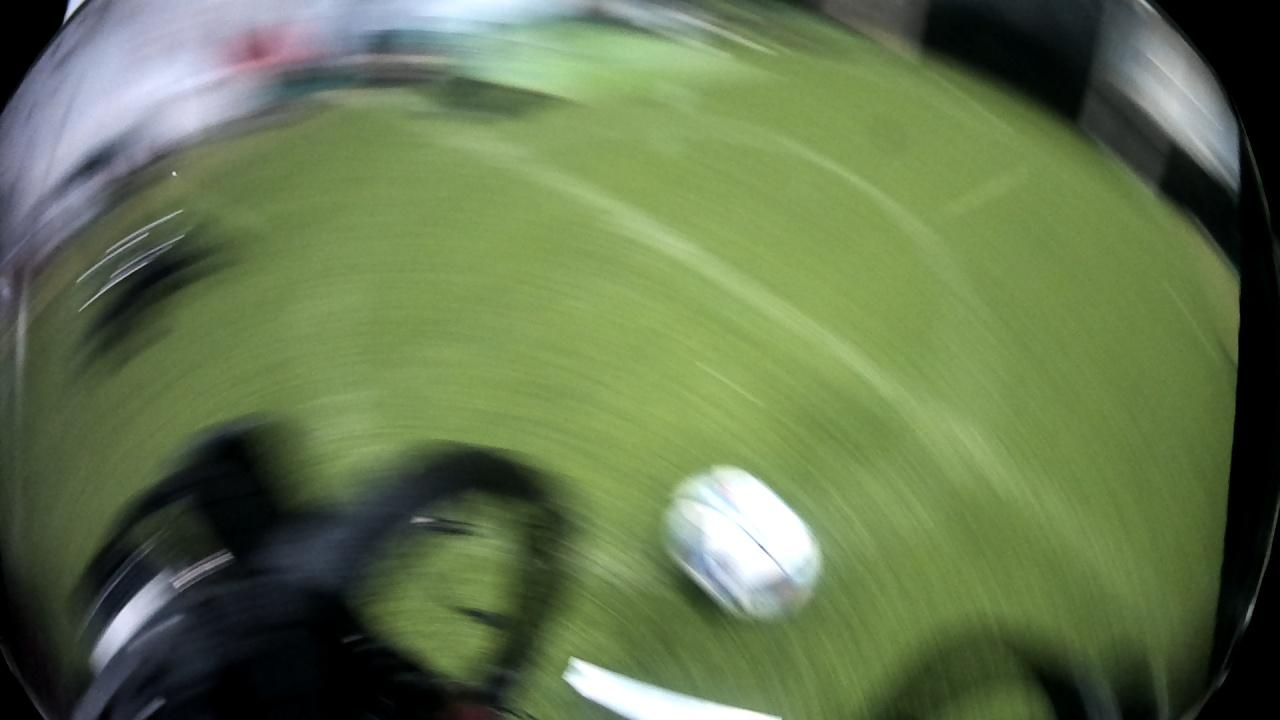ball: (663, 462, 834, 629)
